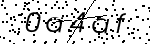0: (25, 10, 42, 33)
4: (70, 11, 86, 33)
a: (92, 16, 110, 34), (46, 15, 62, 35)
f: (116, 11, 127, 33)
